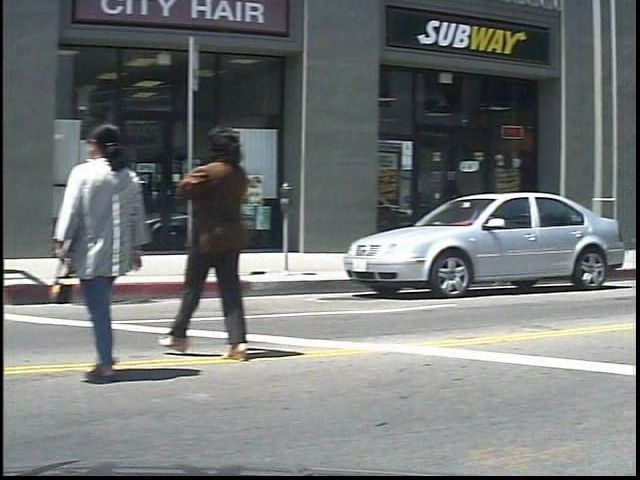person: (66, 119, 171, 384), (174, 120, 270, 359)
